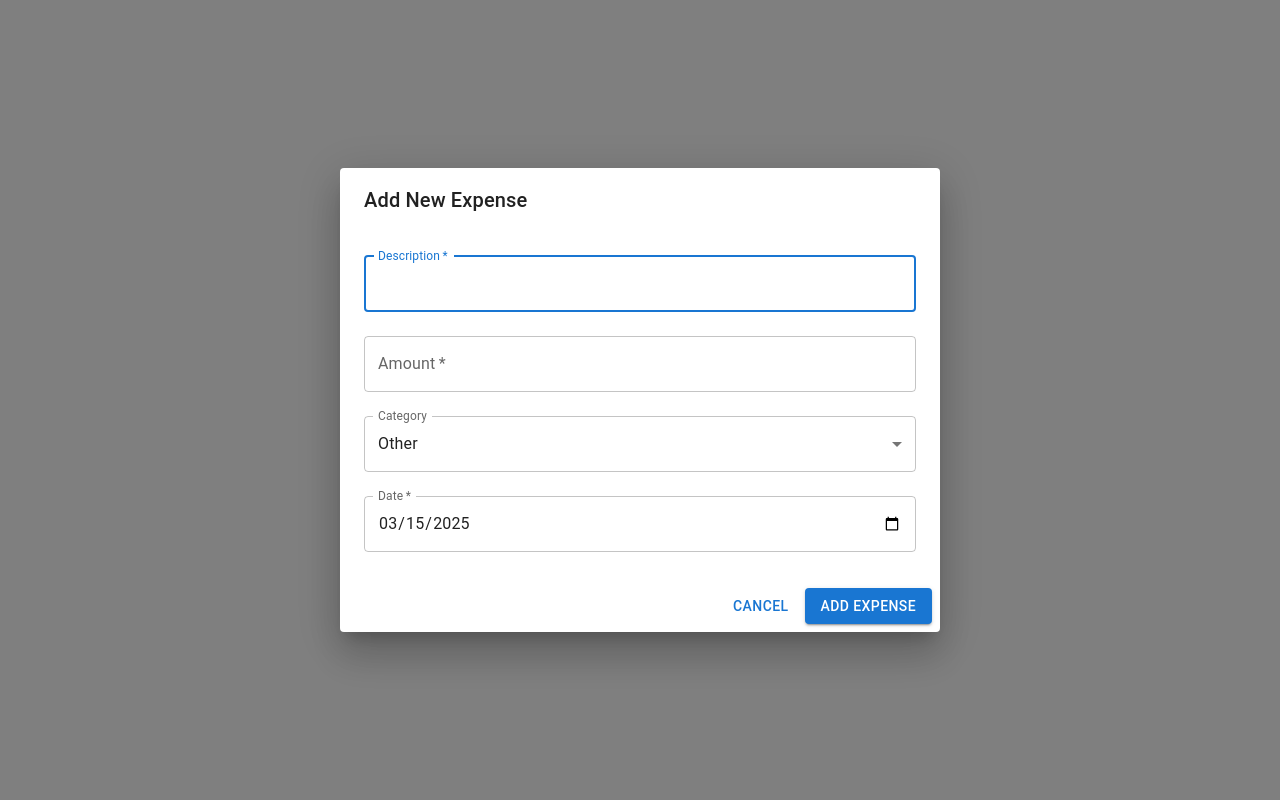
Test: ExpenseForm Component › validates form inputs
Type "50" into the field labelled "Amount *" at (640, 364), box [364,336,916,392]
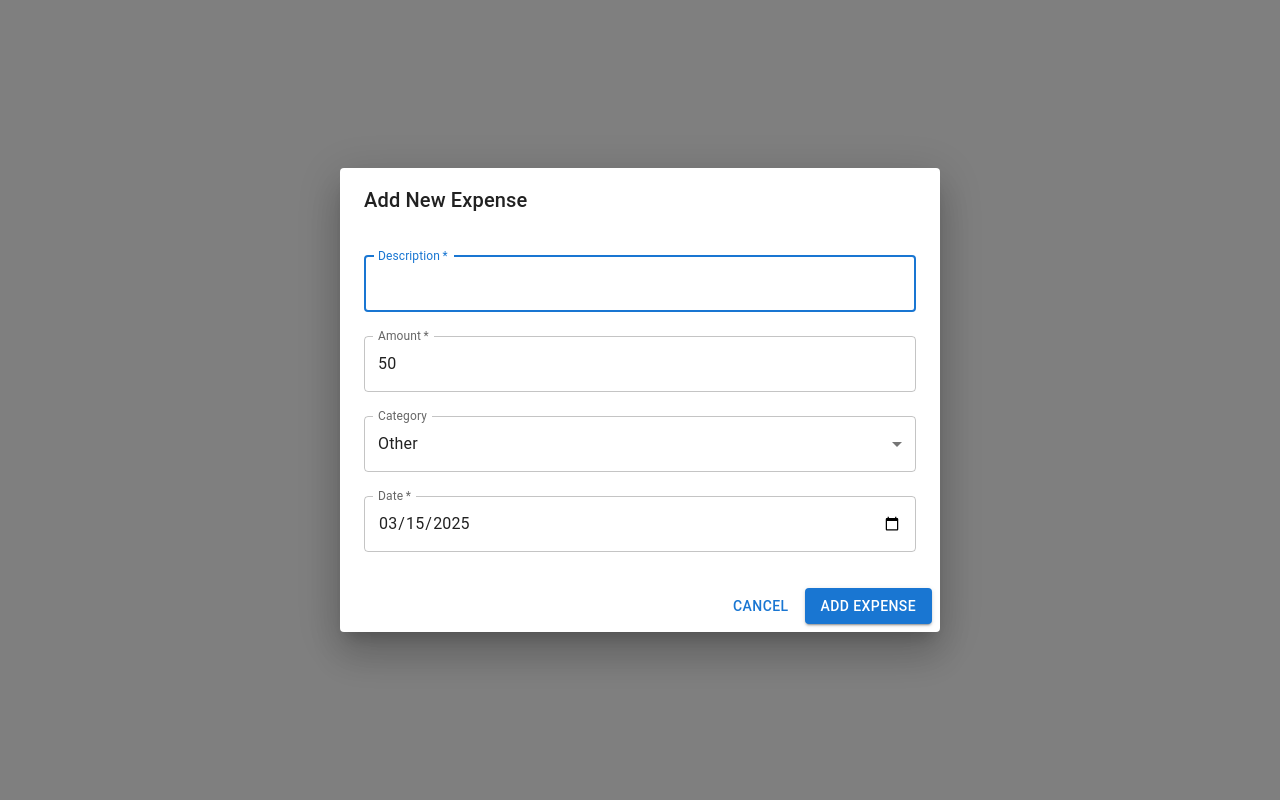
Submit the form
Click the button "Add Expense" at (868, 606), box [804,588,932,624]
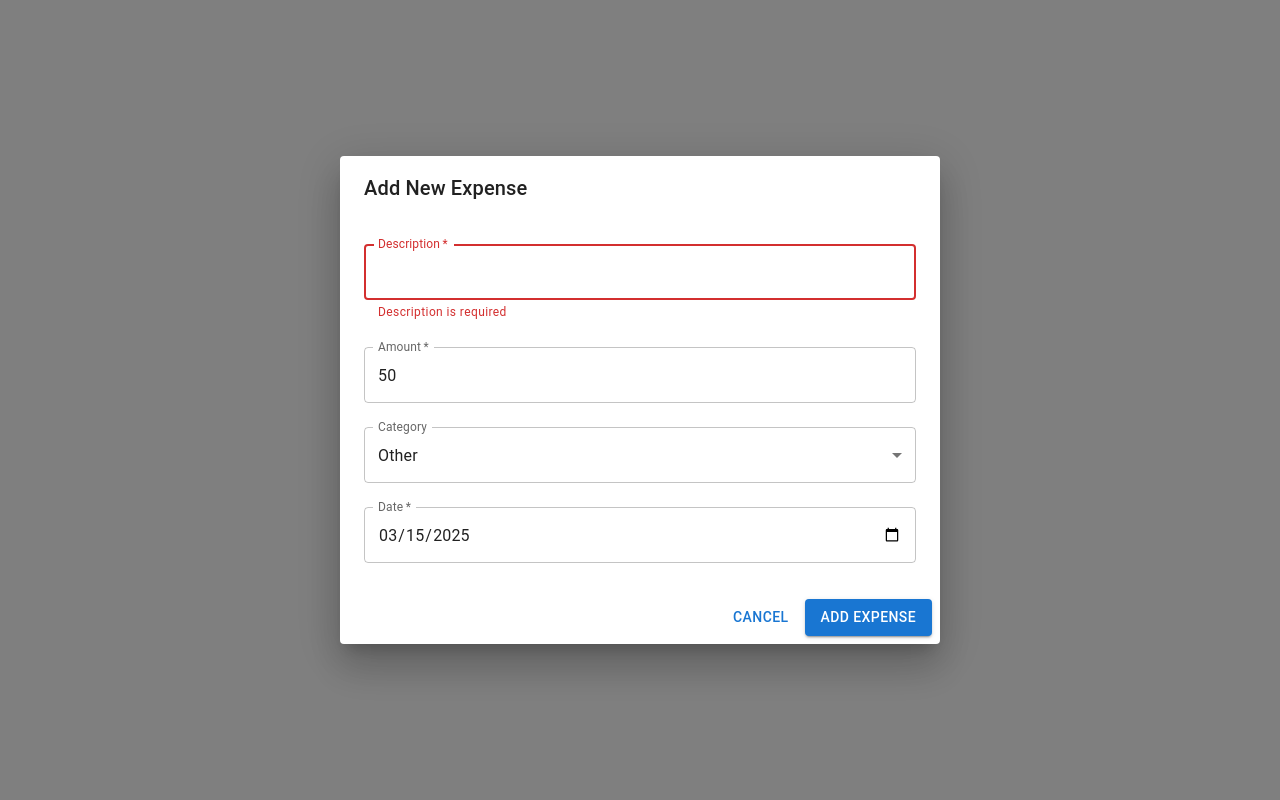
Expected: the text "Description is required" is shown, [378,305,507,319]
Amount validation
Type "Test Expense" into the field labelled "Description *" at (640, 272), box [364,244,916,300]
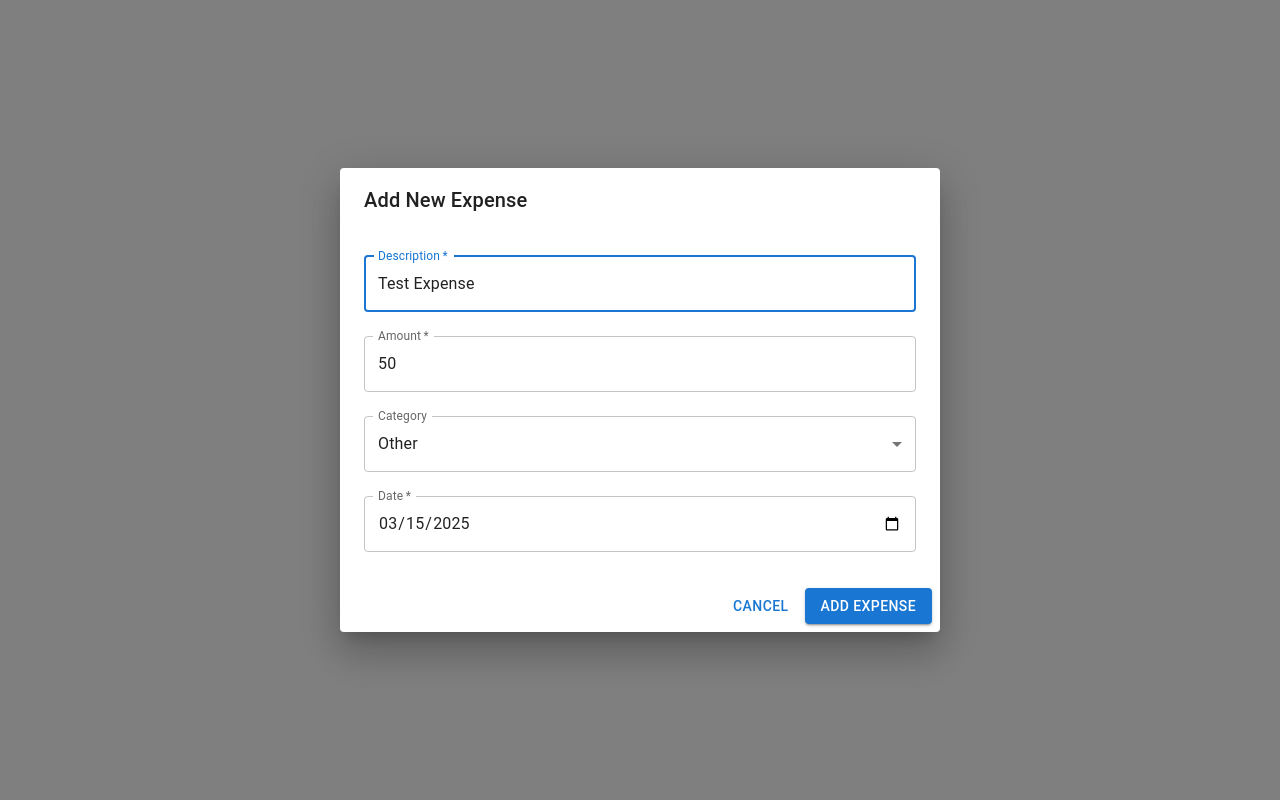
Clear the field labelled "Amount *" at (640, 364), box [364,336,916,392]
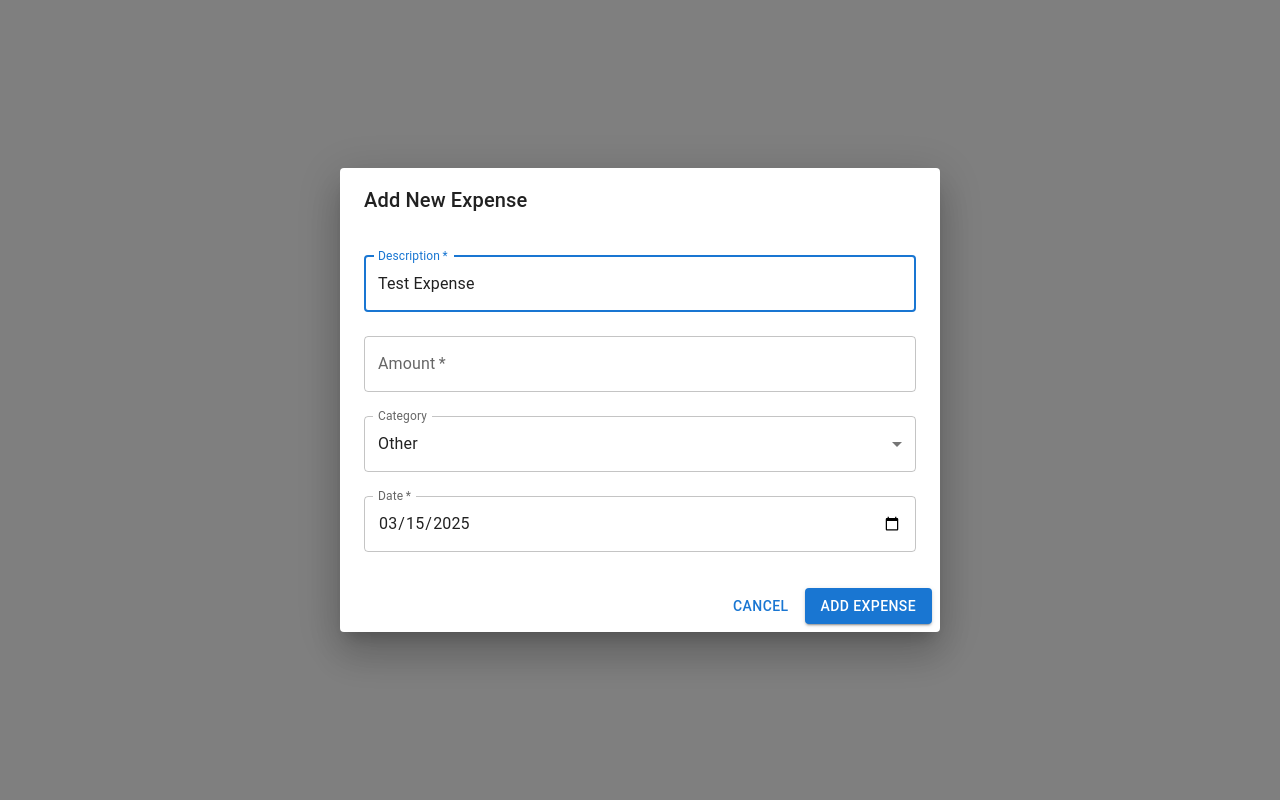
Click the button "Add Expense" at (868, 606), box [804,588,932,624]
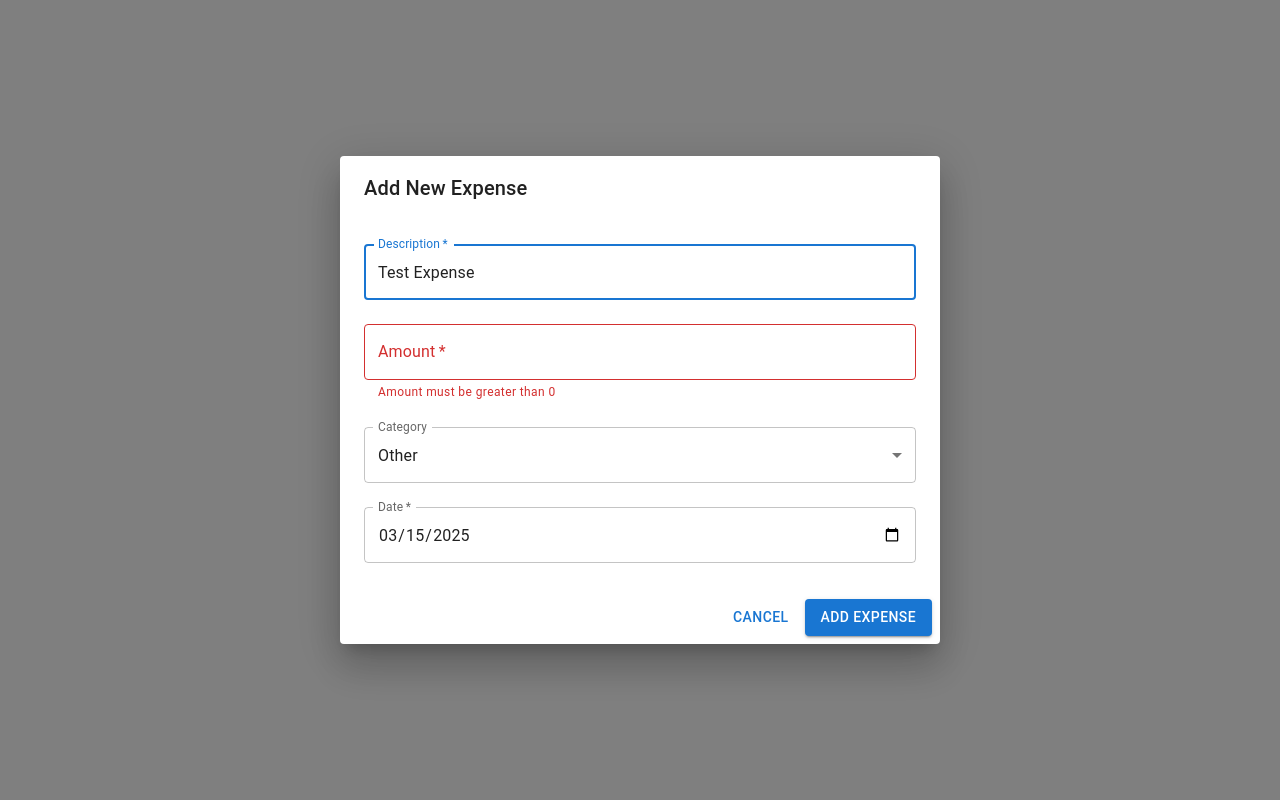
Expected: the text "Amount must be greater than 0" is shown, [378,385,556,399]
